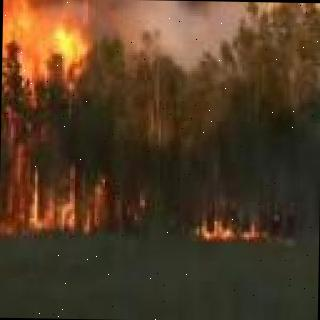fire: (0, 0, 115, 233), (195, 204, 262, 243)
